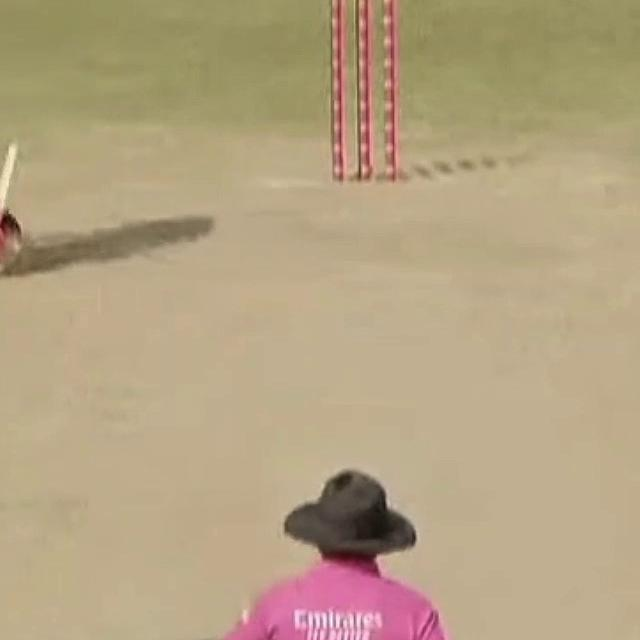umpire: (165, 455, 513, 640)
